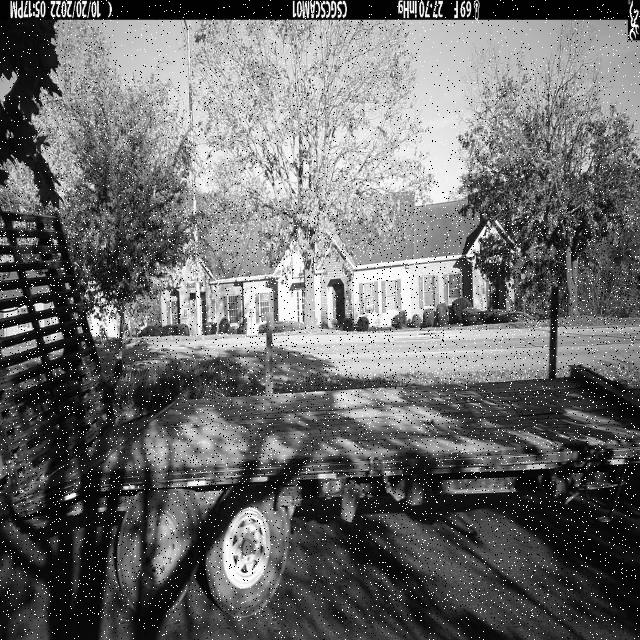Box Truck: (0, 209, 640, 621)
